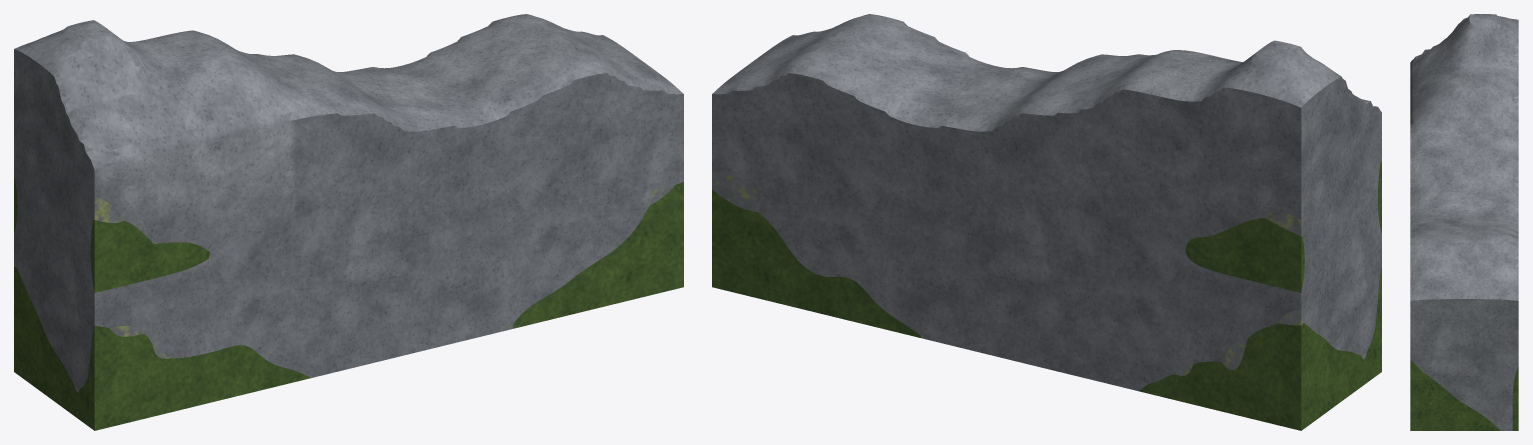
Rendered from ruin_wall_low.glb.
The picture shows the model from 3 angles, left to right: view 1: azimuth 30°, elevation 25°; view 2: azimuth 150°, elevation 25°; view 3: azimuth 270°, elevation 25°; orthographic projection. The views are drawn at different scales.
Parts seen in each view (by area): view 1: wilds_ruins_ruin_wall_low; view 2: wilds_ruins_ruin_wall_low; view 3: wilds_ruins_ruin_wall_low.
Part boxes in pixels (x1,y1,x2,y2): wilds_ruins_ruin_wall_low: (14,14,683,430); wilds_ruins_ruin_wall_low: (712,14,1381,430); wilds_ruins_ruin_wall_low: (1410,14,1518,430).
Bounding box in the file's own units: 1.98 × 1.12 × 0.4688.
3 materials, 3 textured.
